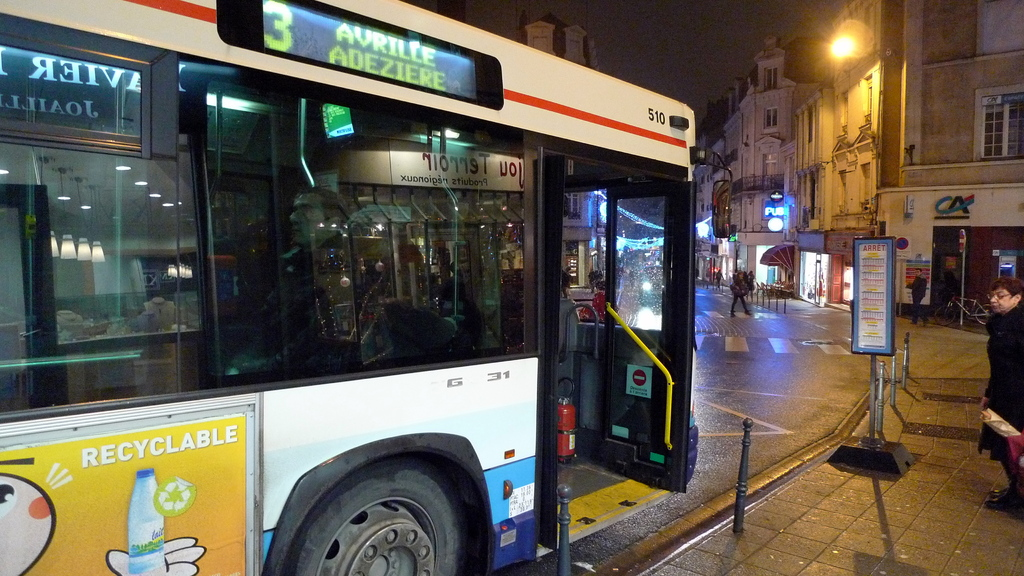Bus: (0, 1, 704, 575)
